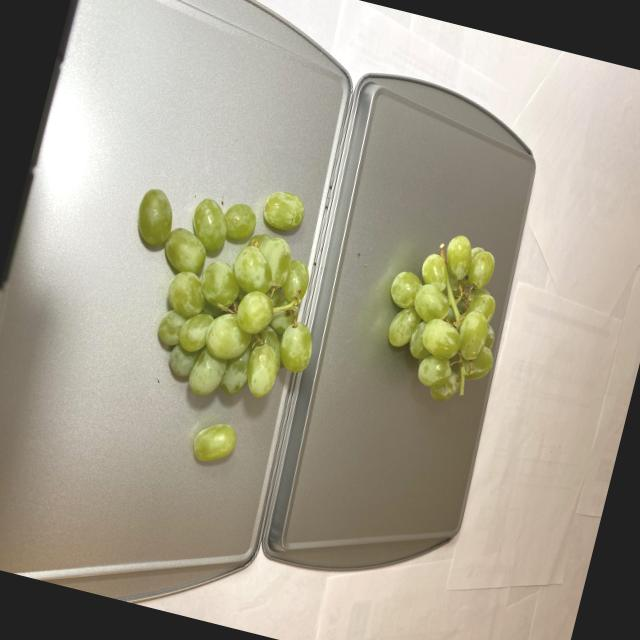grapes: (80, 162, 344, 478), (366, 220, 520, 412)
